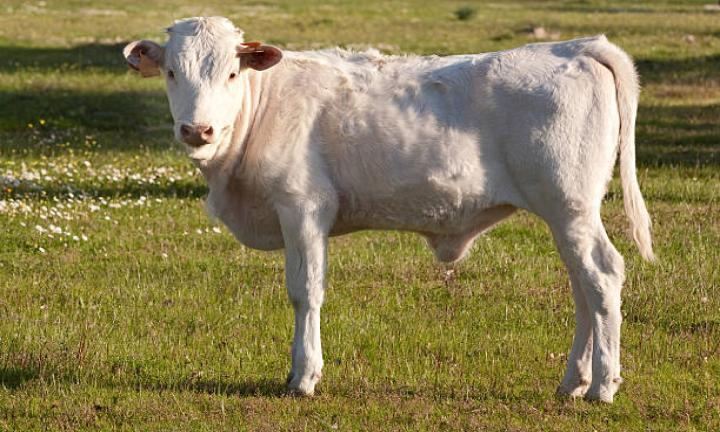Charolais: (124, 17, 654, 401)
